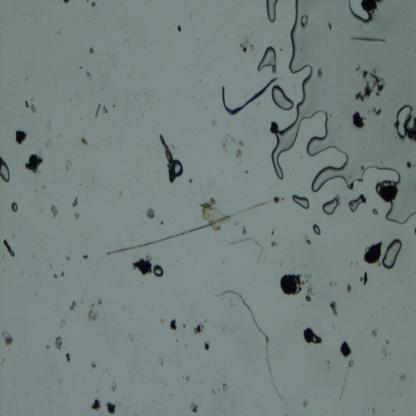Air bubble: (260, 0, 367, 190), (351, 162, 402, 184), (383, 199, 416, 223), (382, 235, 404, 270), (393, 106, 413, 139), (348, 0, 372, 25), (256, 45, 277, 72), (272, 85, 294, 110), (348, 193, 366, 212), (291, 194, 310, 211), (322, 197, 338, 216), (0, 157, 10, 185), (265, 1, 278, 22), (174, 160, 184, 179), (312, 223, 322, 237), (154, 264, 164, 277), (300, 14, 309, 28), (10, 202, 20, 214), (372, 208, 379, 216)
Background material: (106, 197, 266, 256), (354, 61, 386, 101), (220, 131, 245, 160), (374, 178, 399, 205), (338, 361, 354, 403), (199, 196, 222, 222), (363, 238, 383, 266), (281, 273, 304, 296), (22, 152, 42, 175), (130, 256, 153, 275), (350, 34, 388, 44), (303, 327, 323, 346), (88, 297, 102, 324), (352, 109, 368, 130), (153, 347, 167, 367), (237, 36, 254, 52), (338, 340, 353, 358), (0, 329, 15, 347), (2, 238, 16, 257), (379, 343, 390, 362), (268, 229, 278, 249), (14, 130, 28, 144), (95, 103, 109, 117), (192, 320, 205, 335), (356, 271, 368, 287), (144, 207, 157, 221), (49, 202, 61, 217), (23, 100, 36, 113), (104, 401, 117, 414), (307, 285, 316, 303), (330, 298, 338, 316), (112, 375, 120, 392), (92, 397, 101, 412), (220, 381, 230, 394), (169, 317, 177, 333), (54, 336, 63, 350), (371, 106, 382, 117), (63, 158, 73, 170), (181, 374, 190, 387), (80, 136, 90, 147), (188, 403, 198, 414), (370, 327, 380, 338), (404, 159, 412, 171), (64, 352, 72, 364), (46, 119, 53, 132), (316, 67, 324, 78), (69, 300, 77, 311), (326, 21, 334, 32), (58, 318, 66, 329), (72, 196, 79, 208), (345, 282, 352, 294), (45, 136, 52, 148), (274, 195, 285, 202), (203, 340, 210, 351), (305, 235, 311, 246), (90, 0, 96, 10), (74, 211, 80, 221), (176, 24, 182, 34), (82, 253, 88, 260), (89, 46, 93, 56), (53, 272, 58, 280), (60, 271, 65, 277)
Cellulose filter fibre: (212, 284, 285, 401), (226, 235, 264, 264), (158, 133, 175, 183)
Cotton: (222, 76, 278, 114)
